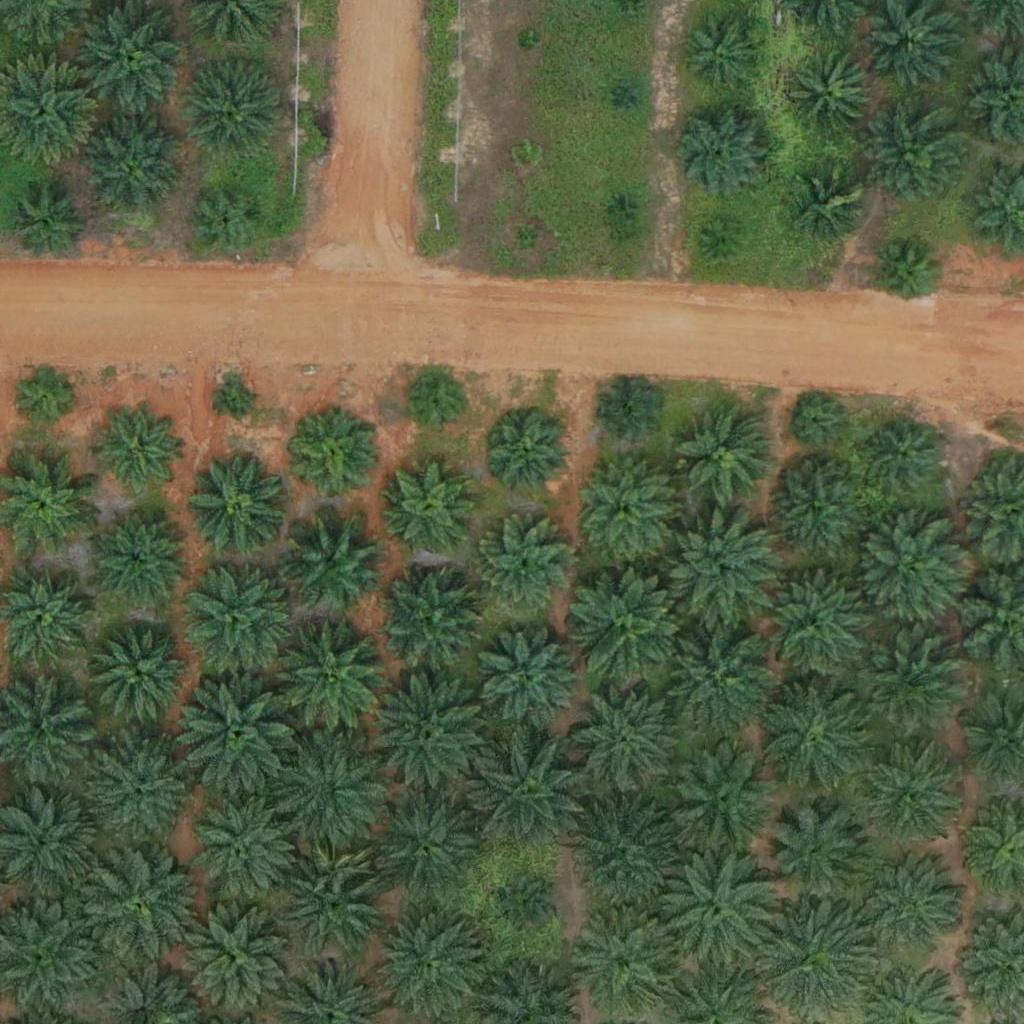Kelapa_Sawit: (172, 674, 297, 800), (265, 731, 390, 857), (361, 673, 486, 799), (466, 732, 591, 858), (567, 563, 692, 689), (563, 792, 688, 918), (650, 612, 775, 738), (660, 843, 785, 969), (755, 674, 880, 800), (75, 844, 200, 969), (751, 566, 876, 691), (275, 622, 388, 736), (375, 563, 488, 677), (367, 790, 480, 903), (372, 907, 485, 1020), (664, 512, 777, 625), (665, 744, 778, 857), (760, 800, 873, 913), (859, 854, 972, 967), (572, 907, 684, 1021), (664, 97, 776, 210), (181, 557, 293, 670), (184, 793, 296, 906), (274, 842, 386, 955), (475, 624, 587, 737), (566, 681, 678, 794), (853, 515, 965, 628), (854, 627, 966, 740), (865, 106, 965, 207), (82, 118, 182, 219), (88, 507, 188, 608), (90, 623, 190, 724), (87, 739, 187, 840), (184, 911, 284, 1012), (471, 517, 571, 618), (575, 458, 675, 559), (675, 406, 775, 507), (764, 460, 864, 561), (185, 60, 285, 160), (188, 452, 288, 552), (283, 510, 383, 610), (682, 8, 770, 97), (788, 52, 876, 140), (93, 407, 181, 495), (386, 462, 474, 550), (485, 411, 573, 499), (866, 750, 954, 838), (868, 4, 955, 92), (292, 416, 379, 504), (191, 182, 266, 258), (795, 170, 870, 245), (9, 188, 84, 263), (867, 419, 942, 494), (874, 243, 937, 306), (496, 878, 559, 941), (597, 381, 660, 444), (12, 362, 74, 425), (407, 374, 469, 437), (792, 398, 842, 448), (704, 219, 742, 257), (219, 382, 256, 420), (516, 30, 541, 55), (512, 142, 537, 167), (515, 226, 540, 251), (615, 84, 640, 109), (608, 194, 633, 219)
